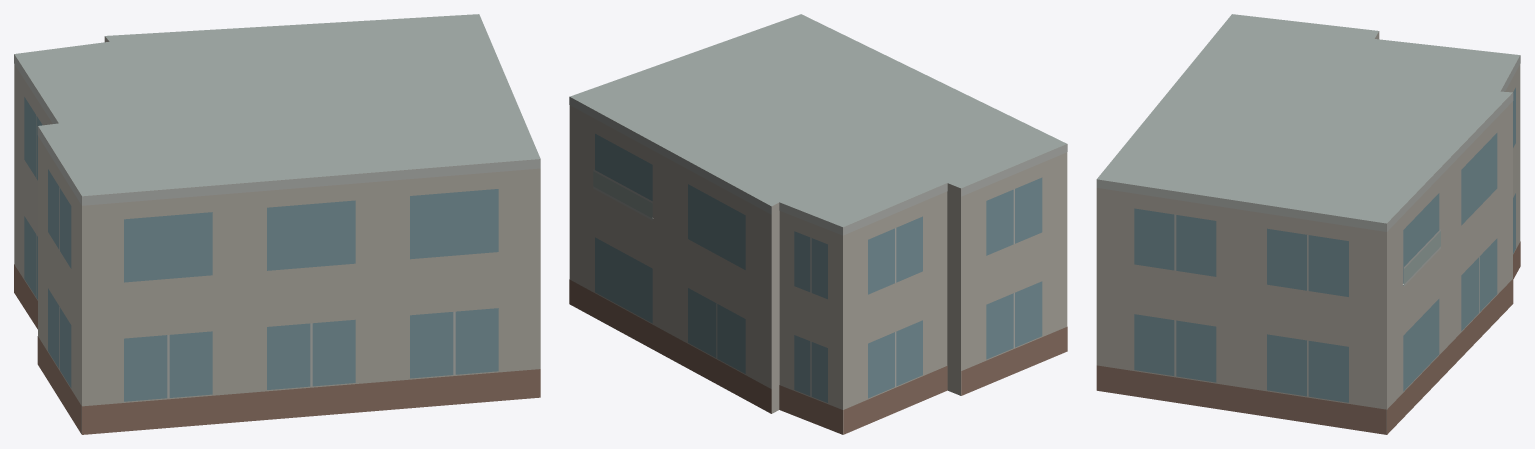
File: survey-upis-32668388.glb
3 views of the same model, side by side, from view 1: azimuth 30°, elevation 25°; view 2: azimuth 150°, elevation 25°; view 3: azimuth 270°, elevation 25° (orthographic). The views are drawn at different scales.
Visible parts, largest first — view 1: survey-upis-32668388.tmp; view 2: survey-upis-32668388.tmp; view 3: survey-upis-32668388.tmp.
Boxes of the visible parts, left/top/right/bottom form: survey-upis-32668388.tmp: left=14, top=14, right=540, bottom=434; survey-upis-32668388.tmp: left=569, top=14, right=1067, bottom=434; survey-upis-32668388.tmp: left=1096, top=14, right=1520, bottom=434.
Size of the model in its own units: 12.98 by 6.1 by 11.1.
